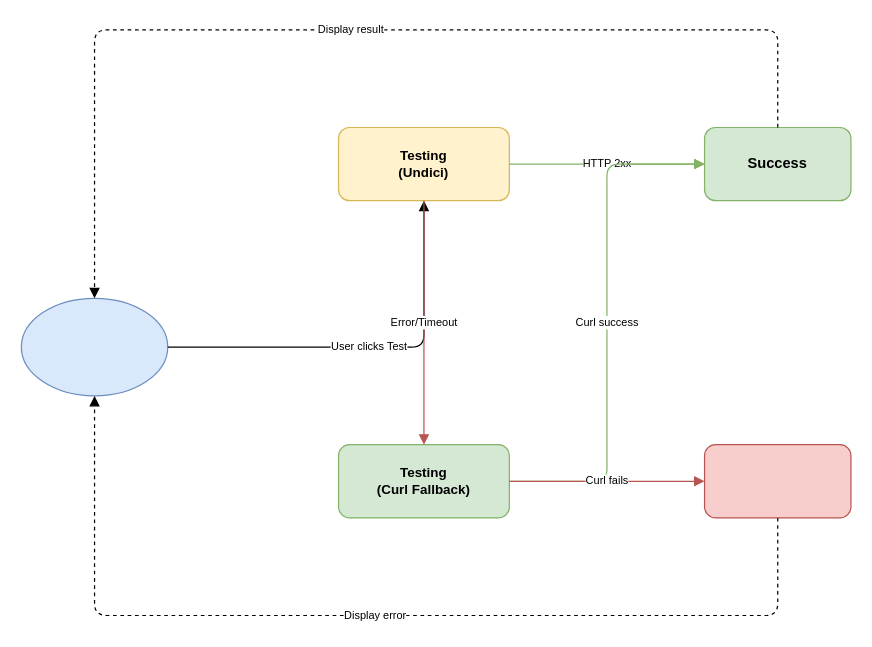
This 872x647 diagram has some shape labels left out. Each missing label, with the centre of its shape:
Failed: (x=777, y=480)
Idle: (x=94, y=346)
